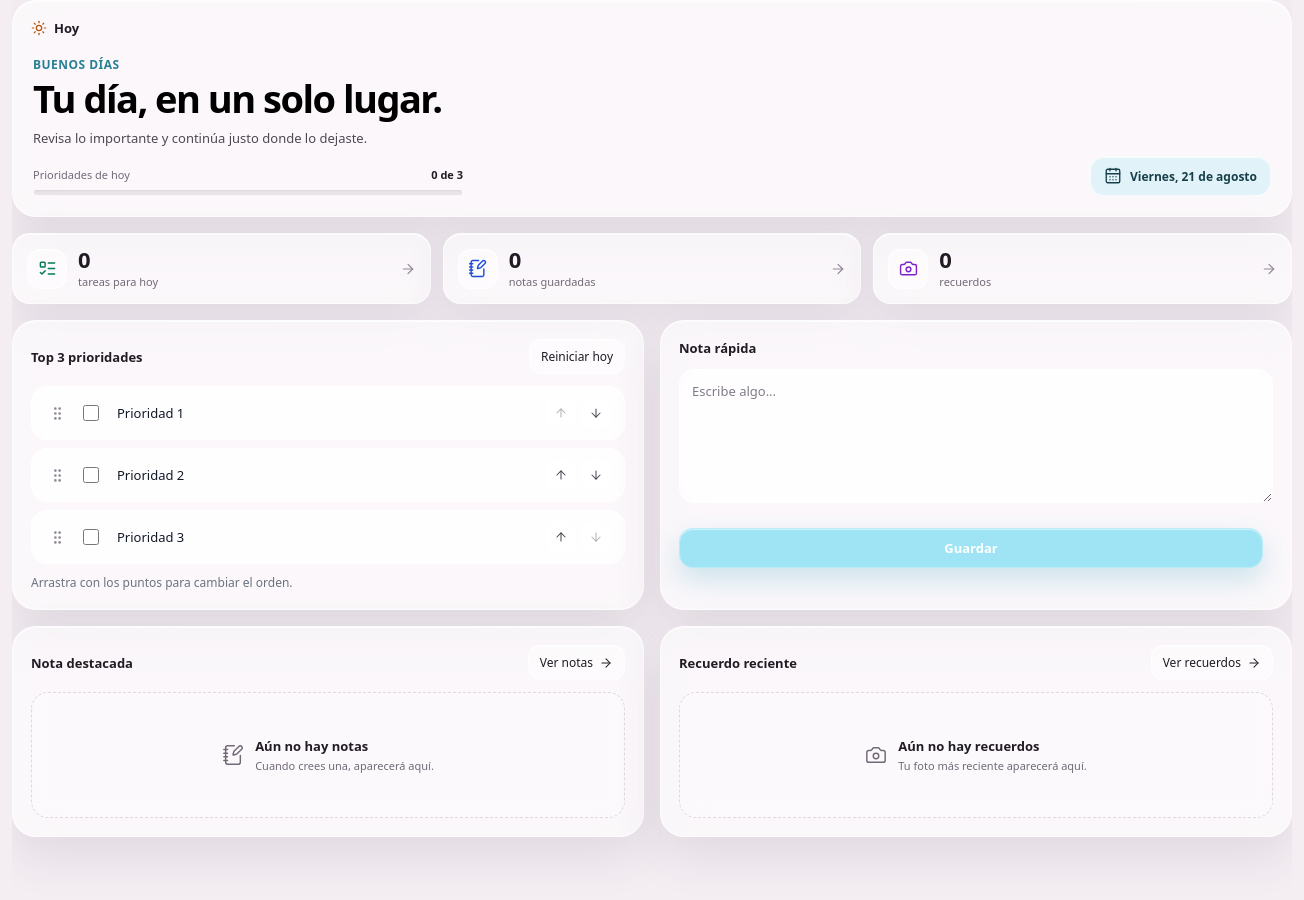
Scenario: Hoy › guarda la nota rápida compartida
Step 1. Type "Comprar flores mañana" into the text box named "Nota rápida" → (976, 436), box [679,369,1273,503]
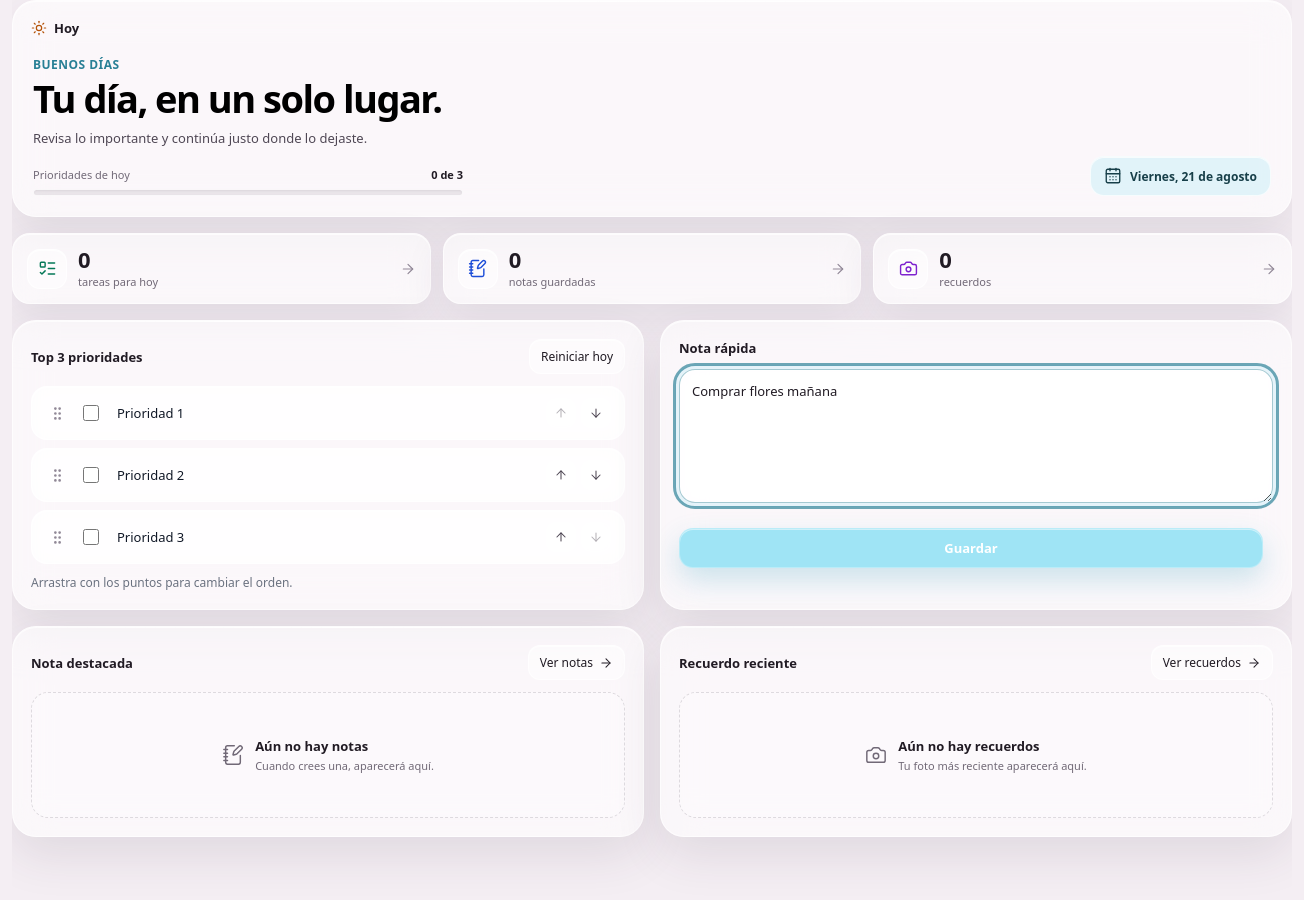
Step 2. Click the button "Guardar" → (971, 548), box [679,528,1263,568]
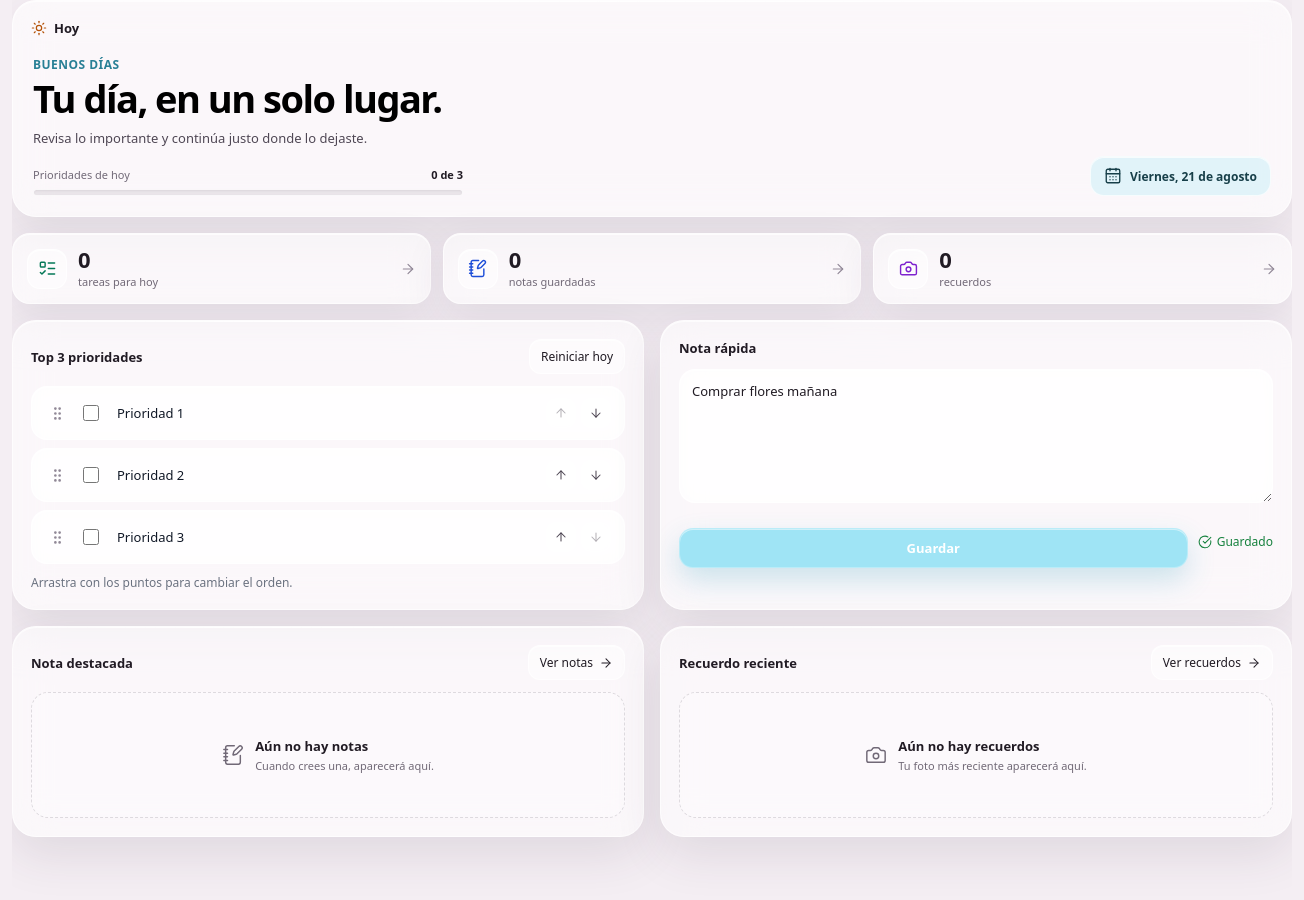
Check: the text "Guardado" is shown, box [1198,533,1273,550]
